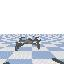drone: (15, 36, 41, 51)
